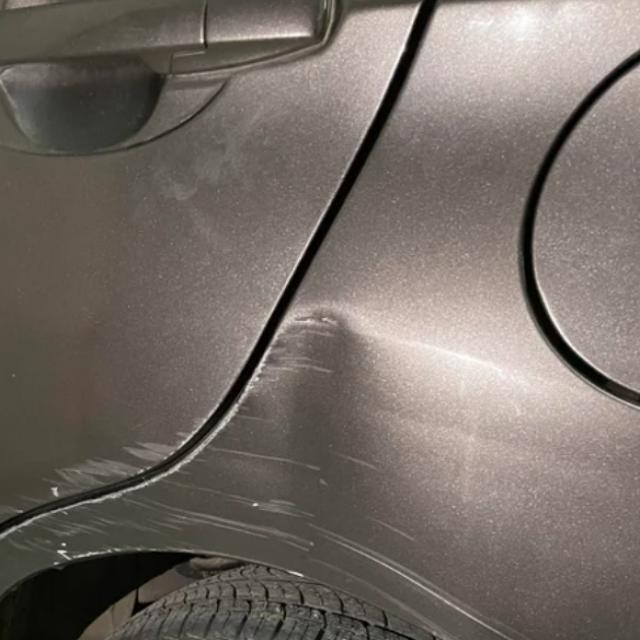dents: (233, 283, 423, 453)
